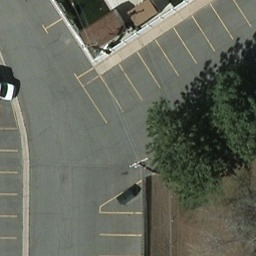car: (117, 185, 142, 205)
van: (0, 74, 18, 103)
